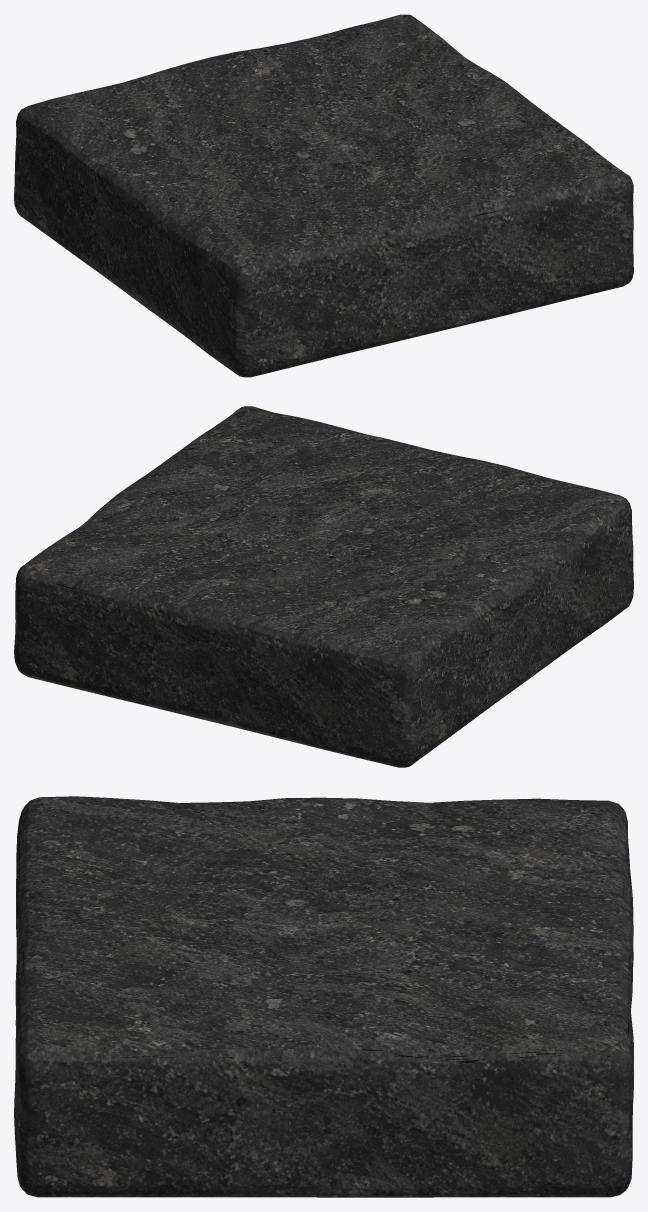
Rendered from tak-flat-black.glb.
3 renders of one model, top to bottom at view 1: azimuth 30°, elevation 25°; view 2: azimuth 150°, elevation 25°; view 3: azimuth 270°, elevation 25°, orthographic. The views are drawn at different scales.
Visible parts, largest first — view 1: tak-flat-black; view 2: tak-flat-black; view 3: tak-flat-black.
Boxes of the visible parts, <box> form: tak-flat-black: <box>14,14,633,377</box>; tak-flat-black: <box>14,406,633,767</box>; tak-flat-black: <box>14,796,633,1197</box>.
Bounding box in the file's own units: 0.0283 × 0.00789 × 0.0283.
1 material, 1 textured.
